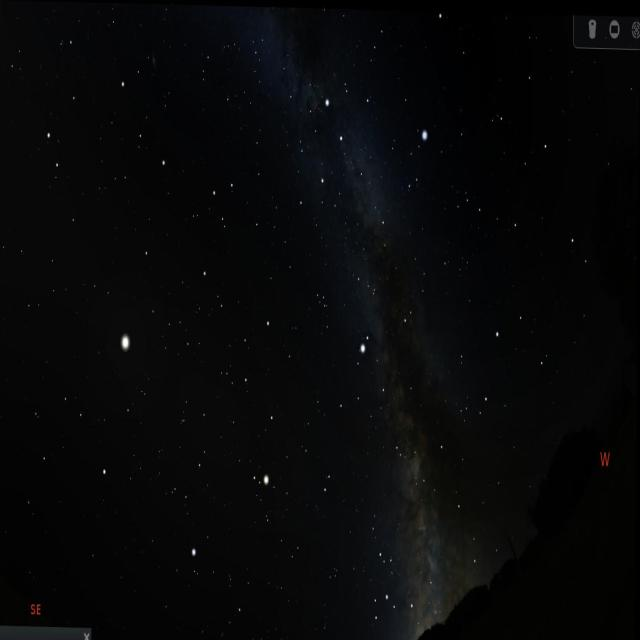aquila: (329, 333, 415, 459)
cygnus: (318, 95, 389, 236)
lyra: (402, 123, 434, 199)
